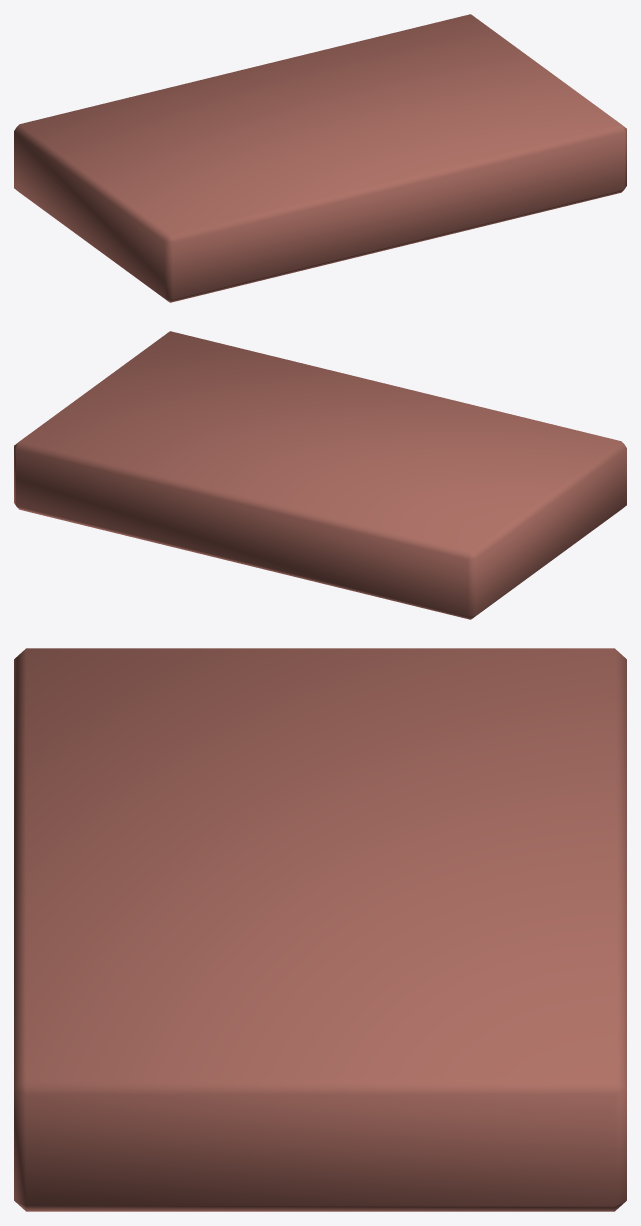
Rendered from booster_rack_frame.glb.
3 views of the same model, one above another, from view 1: azimuth 30°, elevation 25°; view 2: azimuth 150°, elevation 25°; view 3: azimuth 270°, elevation 25° (orthographic). The views are drawn at different scales.
Parts seen in each view (by area): view 1: booster_rack_frame; view 2: booster_rack_frame; view 3: booster_rack_frame.
Part boxes in pixels (<box>): booster_rack_frame: <box>14,14,626,302</box>; booster_rack_frame: <box>14,331,626,619</box>; booster_rack_frame: <box>14,648,626,1211</box>.
Size of the model in its own units: 0.85 by 0.12 by 0.5.
